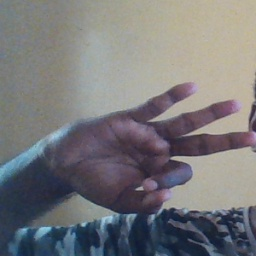K: (44, 81, 256, 215)
